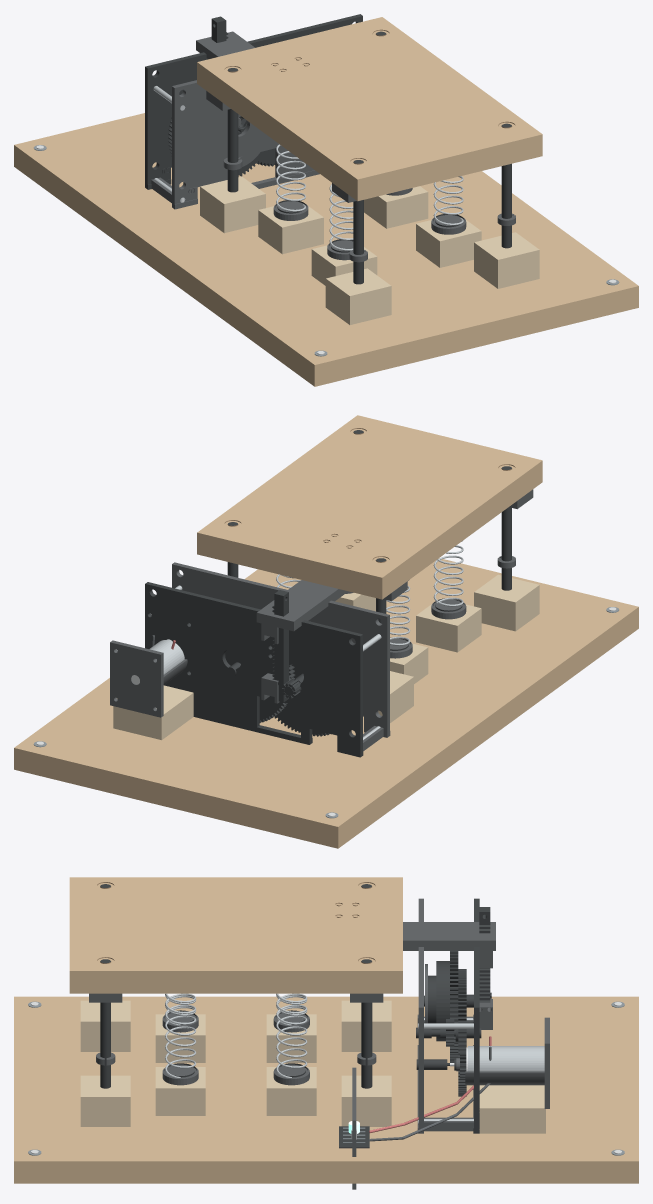
The model's file is step-power-generator-ar-10.glb.
The picture shows the model from 3 angles, top to bottom: view 1: azimuth 30°, elevation 25°; view 2: azimuth 150°, elevation 25°; view 3: azimuth 270°, elevation 25°; orthographic projection. The views are drawn at different scales.
Visible parts, largest first — view 1: W1 fixed wooden base 280x450x18, W2 moving wooden pedal 160x240x18, Printed two-hole gearbox cheek, Printed three-hole gearbox cheek, W3 guide timber block 2, W3 guide timber block 4, W3 guide timber block 1, W4 spring riser 1, W4 spring riser 4, W4 spring riser 3, W4 spring riser 2, Printed rack-to-pedal bridge (+8 smaller); view 2: W1 fixed wooden base 280x450x18, W2 moving wooden pedal 160x240x18, Printed three-hole gearbox cheek, Printed two-hole gearbox cheek, Printed motor cradle, W3 guide timber block 2, Motor support timber block 42x20x48, W4 spring riser 2, Printed rack-to-pedal bridge, Actual printed rack strip, W3 guide timber block 1, W4 spring riser 1 (+5 smaller); view 3: W1 fixed wooden base 280x450x18, W2 moving wooden pedal 160x240x18, Motor support timber block 42x20x48, Printed rack-to-pedal bridge, W3 guide timber block 4, W3 guide timber block 3, W3 guide timber block 1, W3 guide timber block 2, W4 spring riser 4, W4 spring riser 3, Metal DC motor body, Printed 90T clutch gear (+17 smaller).
Part boxes in pixels (x1,y1,x2,y2): W1 fixed wooden base 280x450x18: (14, 113, 638, 386); W2 moving wooden pedal 160x240x18: (197, 17, 542, 201); Printed two-hole gearbox cheek: (172, 80, 319, 209); Printed three-hole gearbox cheek: (145, 14, 362, 189); W3 guide timber block 2: (325, 268, 391, 324); W3 guide timber block 4: (474, 232, 539, 288); W3 guide timber block 1: (200, 176, 265, 233); W4 spring riser 1: (258, 200, 323, 254); W4 spring riser 4: (416, 214, 481, 267); W4 spring riser 3: (364, 186, 428, 228); W4 spring riser 2: (311, 245, 377, 285); Printed rack-to-pedal bridge: (196, 31, 254, 59); W1 fixed wooden base 280x450x18: (14, 558, 638, 848); W2 moving wooden pedal 160x240x18: (197, 415, 542, 599); Printed three-hole gearbox cheek: (145, 582, 363, 757); Printed two-hole gearbox cheek: (172, 562, 390, 737); Printed motor cradle: (110, 640, 187, 717); W3 guide timber block 2: (474, 574, 539, 631); Motor support timber block 42x20x48: (113, 685, 193, 740); W4 spring riser 2: (416, 598, 481, 652); Printed rack-to-pedal bridge: (256, 580, 347, 631); Actual printed rack strip: (272, 590, 288, 702); W3 guide timber block 1: (363, 671, 413, 722); W4 spring riser 1: (390, 643, 428, 683); W1 fixed wooden base 280x450x18: (14, 996, 638, 1183); W2 moving wooden pedal 160x240x18: (69, 877, 402, 993); Motor support timber block 42x20x48: (479, 1085, 545, 1133); Printed rack-to-pedal bridge: (403, 922, 495, 950); W3 guide timber block 4: (80, 1075, 130, 1126); W3 guide timber block 3: (341, 1075, 391, 1126); W3 guide timber block 1: (341, 1000, 391, 1051); W3 guide timber block 2: (80, 1000, 130, 1051); W4 spring riser 4: (155, 1067, 205, 1115); W4 spring riser 3: (266, 1067, 316, 1115); Metal DC motor body: (468, 1046, 544, 1071); Printed 90T clutch gear: (436, 951, 458, 1062).
Bounding box in the file's own units: 0.28 × 0.1537 × 0.45.
